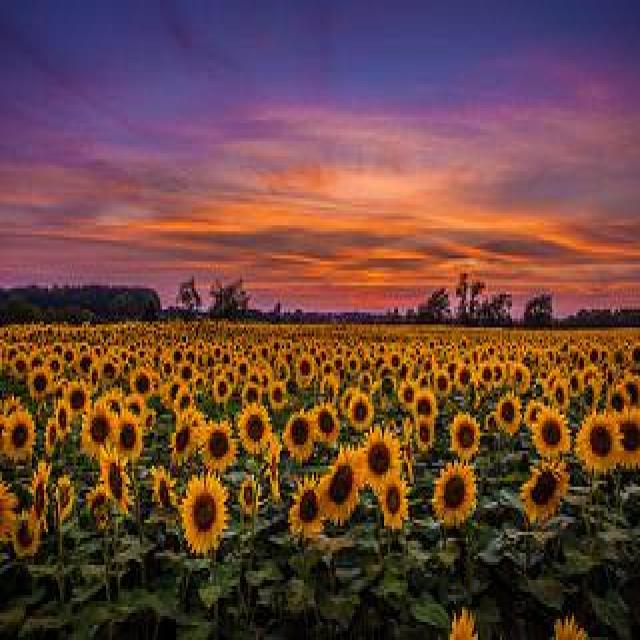sunflower: (181, 469, 227, 553), (320, 450, 364, 524), (520, 460, 570, 523), (431, 462, 475, 524), (577, 412, 621, 472), (361, 424, 401, 486), (287, 475, 323, 541), (102, 456, 136, 518), (531, 408, 571, 459), (194, 419, 234, 470), (2, 406, 36, 462), (80, 406, 118, 454), (612, 407, 640, 470), (167, 410, 197, 467), (29, 462, 53, 530), (281, 412, 315, 459), (12, 505, 42, 556), (237, 406, 271, 450), (449, 413, 481, 458), (0, 478, 24, 538), (381, 478, 409, 529), (264, 429, 284, 498), (312, 401, 342, 446), (117, 413, 145, 458), (496, 392, 522, 434), (410, 388, 438, 423), (236, 476, 260, 516), (447, 606, 475, 640), (63, 378, 89, 414), (56, 474, 77, 517), (553, 615, 589, 640), (347, 394, 373, 426), (28, 368, 52, 401), (131, 366, 153, 396), (414, 418, 434, 450), (296, 354, 316, 386), (55, 398, 70, 439), (510, 363, 531, 392), (525, 400, 546, 429), (165, 377, 184, 407), (212, 373, 230, 403), (400, 381, 418, 409), (269, 380, 286, 409), (86, 358, 100, 392), (552, 380, 570, 406), (607, 386, 628, 408), (477, 362, 496, 386), (174, 388, 193, 411), (434, 369, 450, 396), (46, 418, 57, 455), (457, 365, 472, 392), (46, 355, 62, 375), (245, 384, 259, 404), (13, 354, 28, 372), (28, 353, 46, 368)
